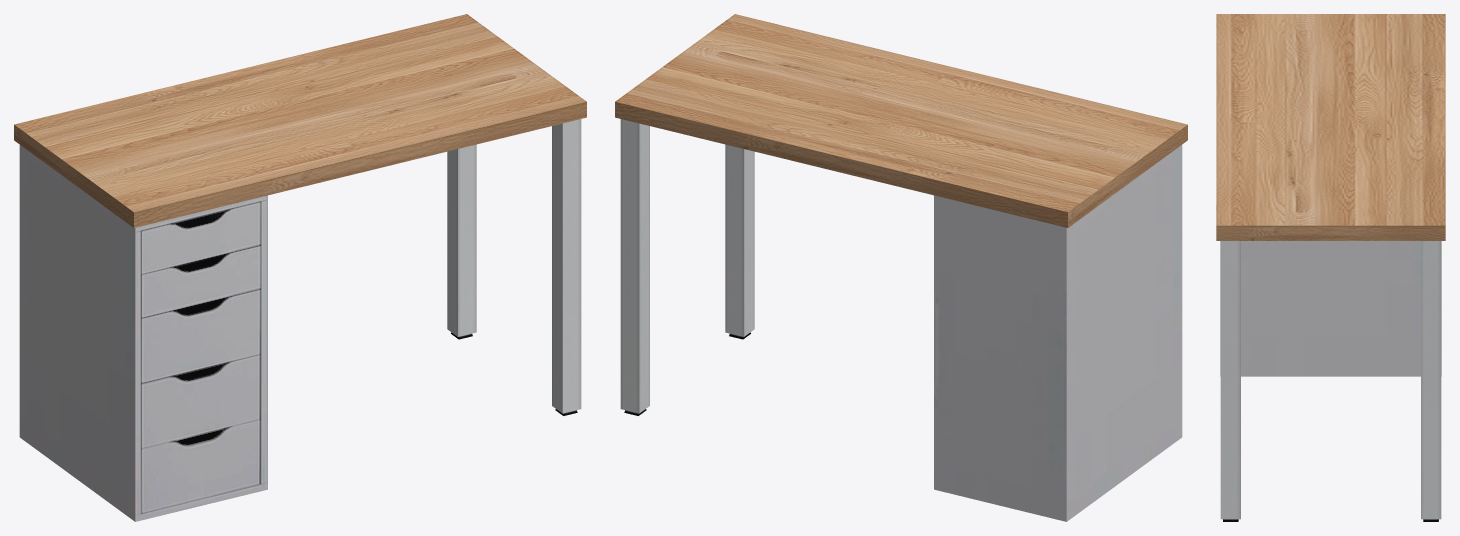
The model's file is Modern Office Desk.fbx.
3 views of the same model, side by side, from view 1: azimuth 30°, elevation 25°; view 2: azimuth 150°, elevation 25°; view 3: azimuth 270°, elevation 25° (orthographic). The views are drawn at different scales.
Parts seen in each view (by area): view 1: Modern Office Desk; view 2: Modern Office Desk; view 3: Modern Office Desk.
Boxes of the visible parts, <box> form: Modern Office Desk: <box>14,14,586,521</box>; Modern Office Desk: <box>615,14,1187,521</box>; Modern Office Desk: <box>1216,14,1445,521</box>.
Bounding box in the file's own units: 120 × 79 × 55.
1 material, 1 textured.
